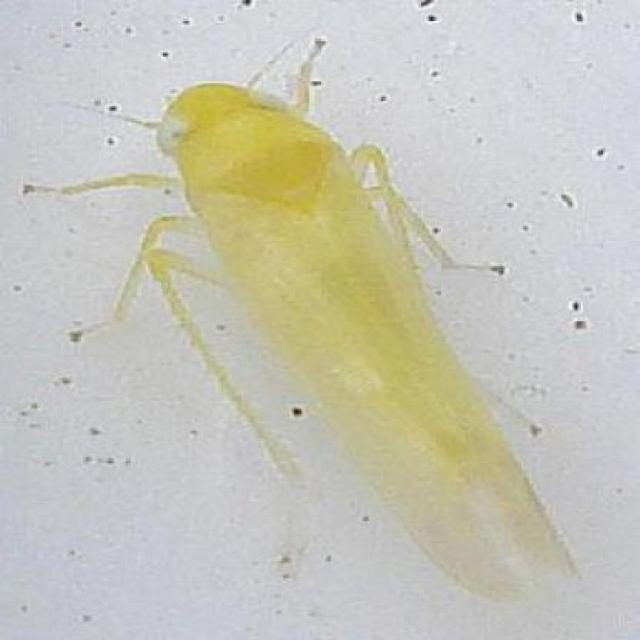green-leafhopper: (148, 90, 583, 588)
